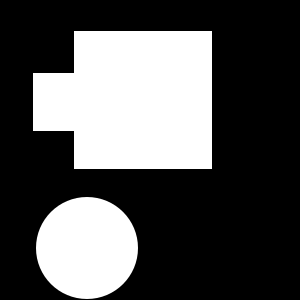circle: (74, 31, 212, 169), (33, 73, 91, 131)
rectangle: (36, 197, 138, 299)
triangle: (87, 127, 107, 147)
